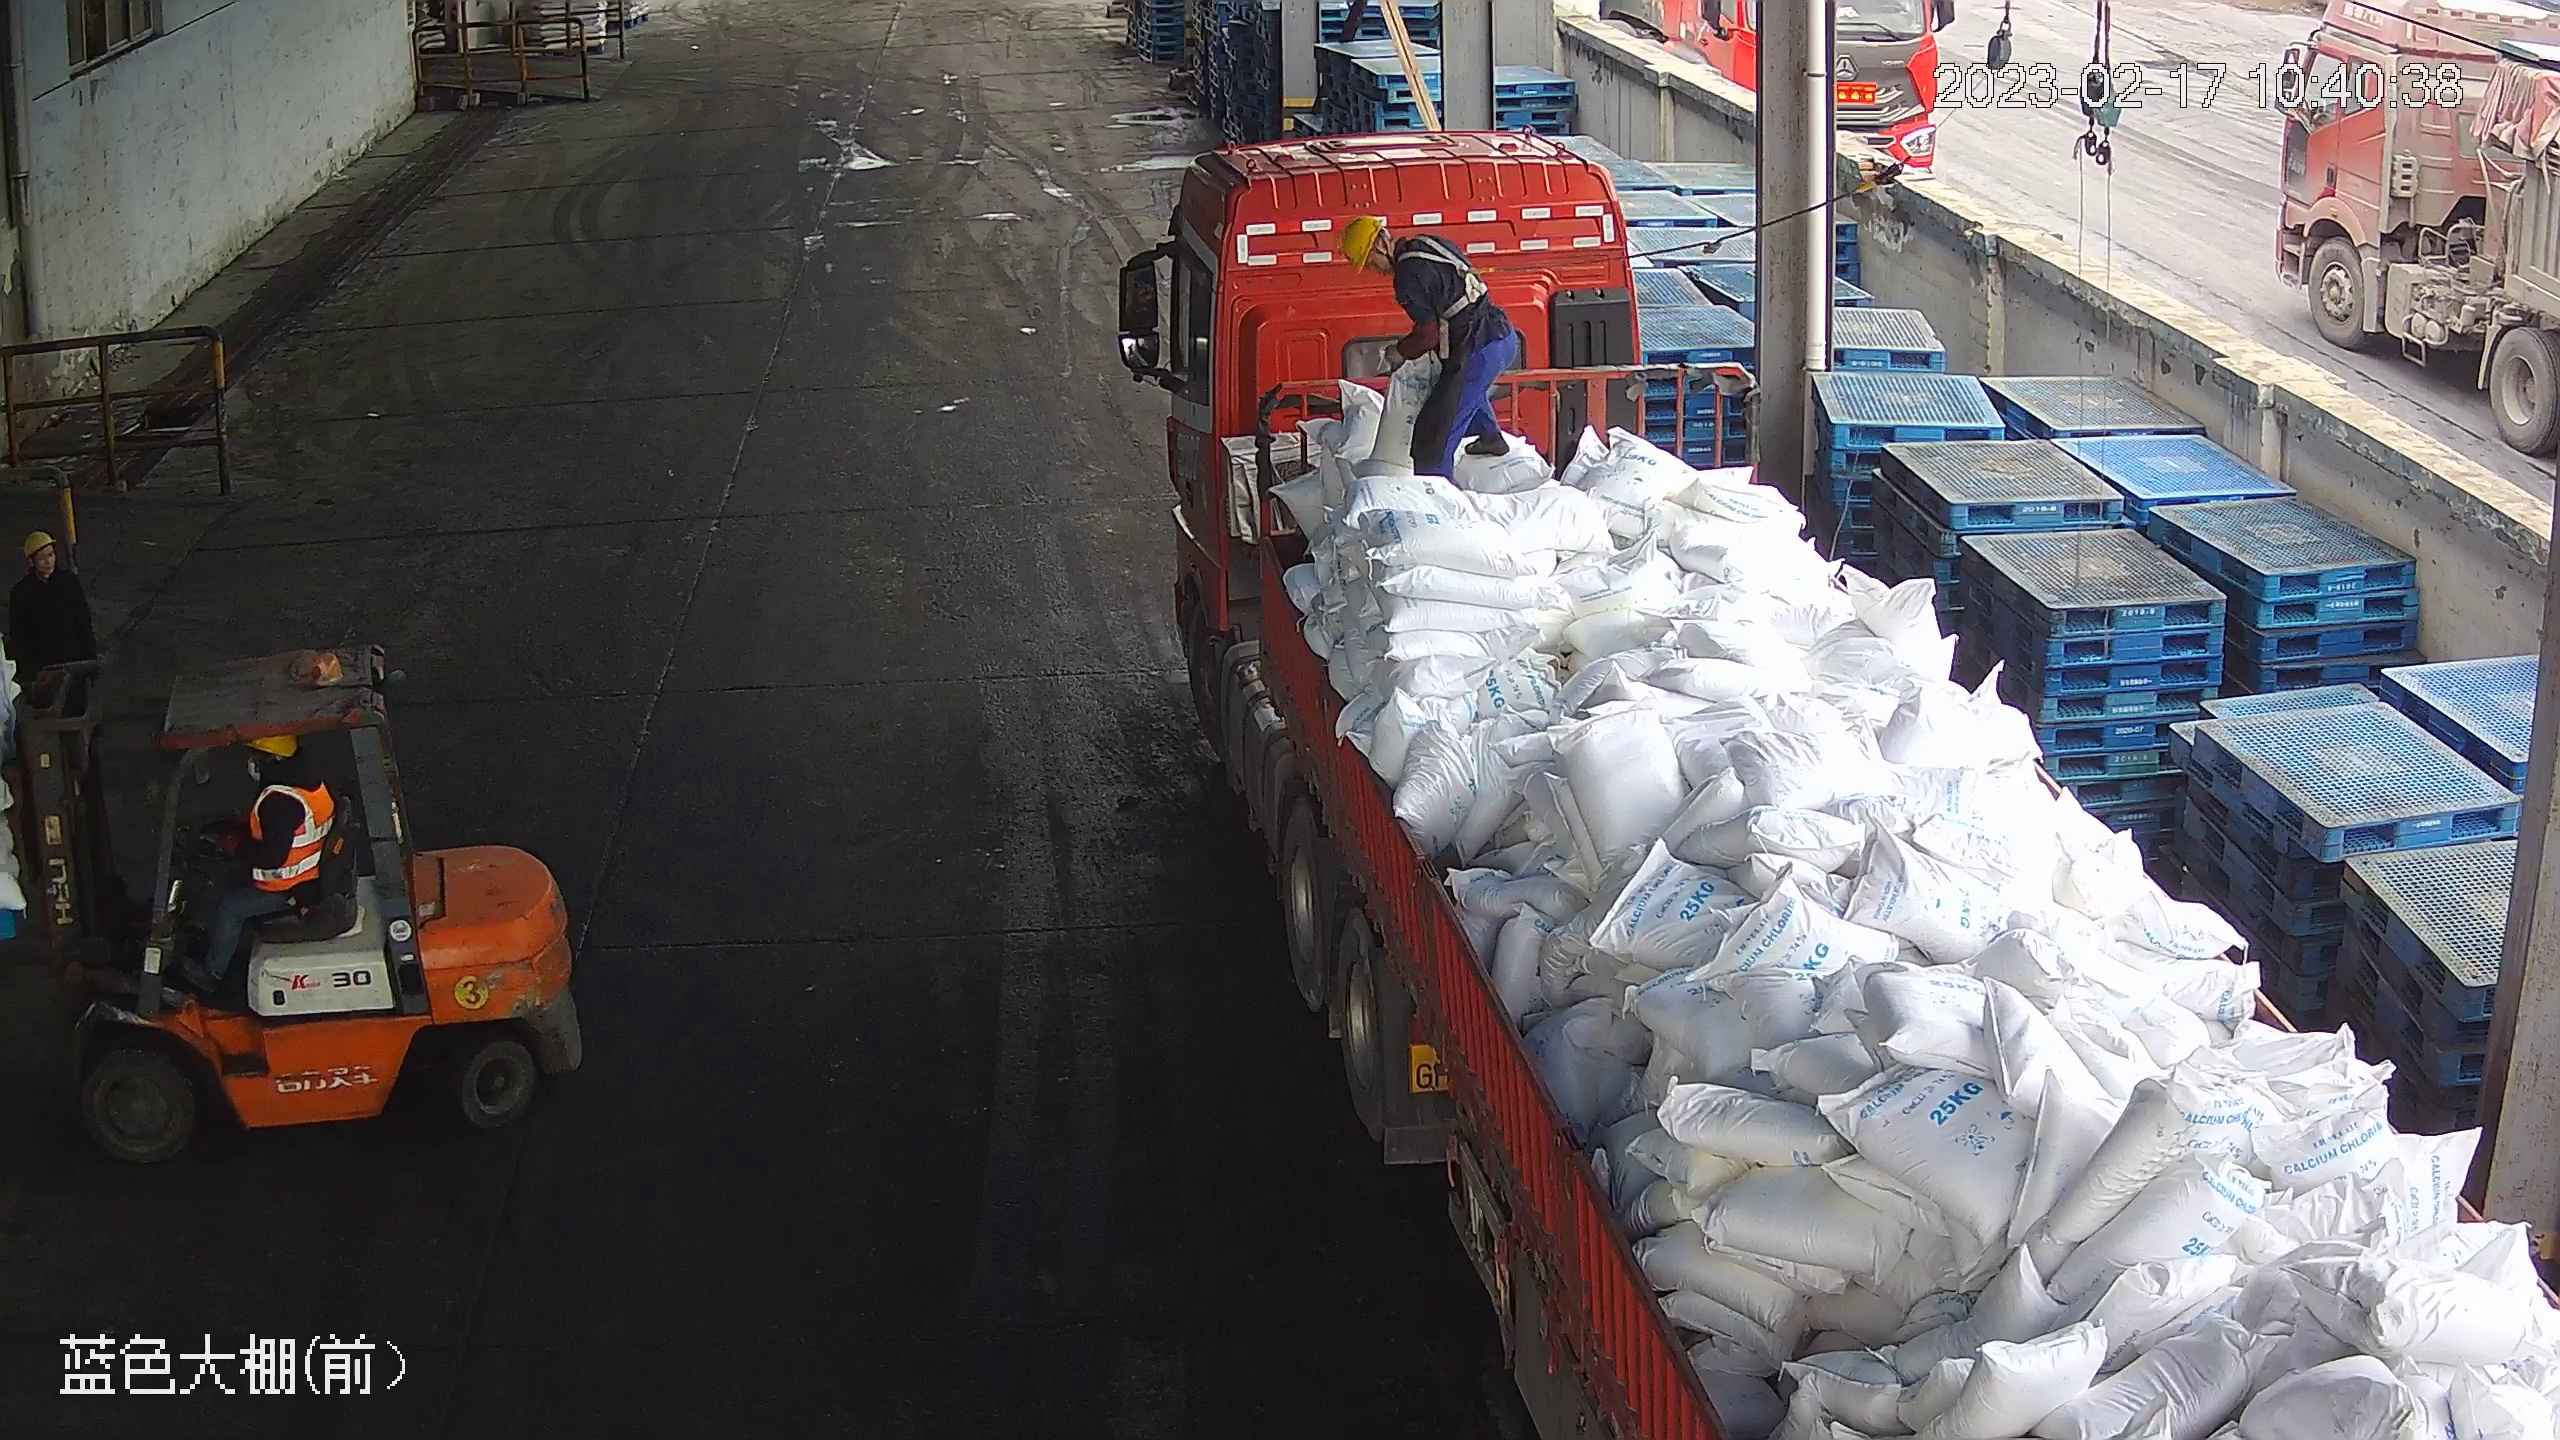belt: (1337, 213, 1526, 484), (1399, 229, 1492, 313)
head: (181, 722, 347, 996), (1337, 214, 1458, 303), (233, 729, 329, 824), (8, 528, 89, 617)
helmet: (1338, 215, 1384, 271), (18, 528, 57, 559)
people: (1338, 213, 1526, 484), (182, 723, 349, 1001), (4, 522, 100, 763)
truck: (1125, 140, 2558, 1440), (2269, 7, 2560, 464)
